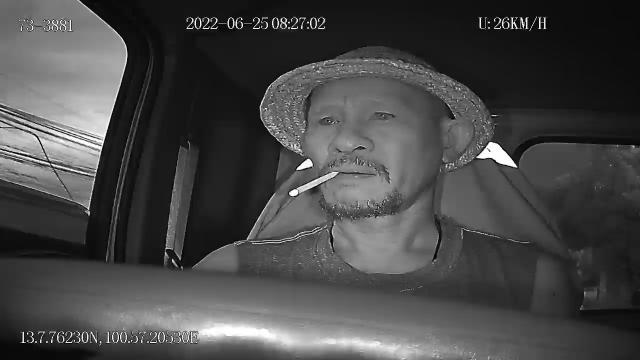SafeDriving: (362, 102, 402, 127), (312, 106, 346, 130)
Smoking: (288, 169, 338, 197)
